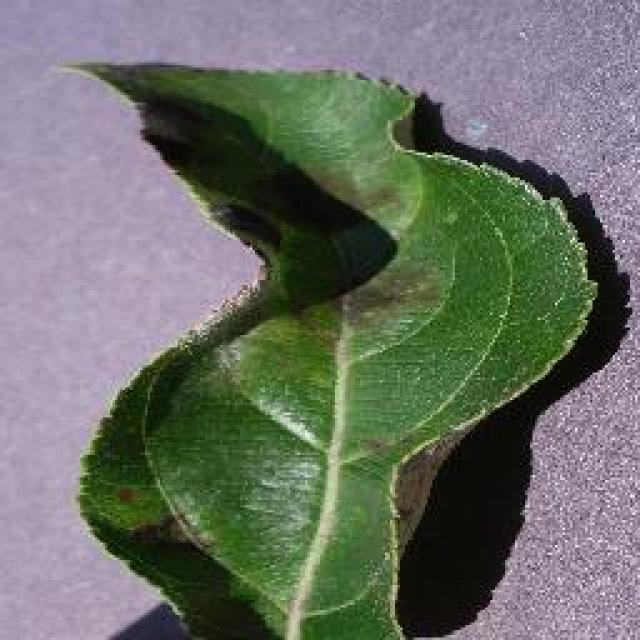apple scab disease: (53, 55, 605, 637)
